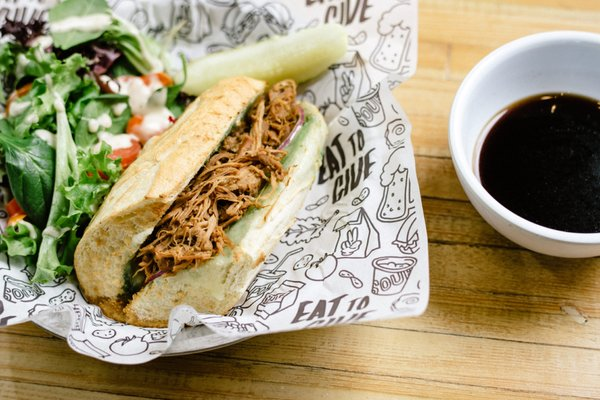pizza: (447, 29, 600, 260)
soup: (72, 73, 329, 328)
